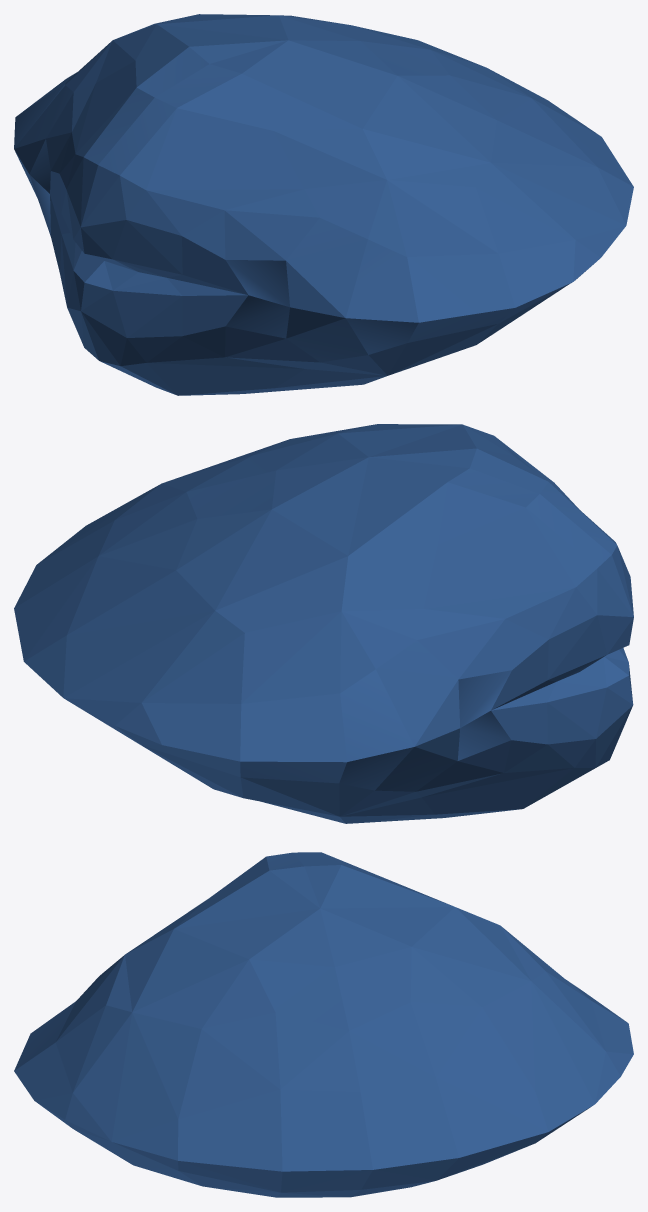
The model's file is Beike2.fbx.
The picture shows the model from 3 angles, top to bottom: view 1: azimuth 30°, elevation 25°; view 2: azimuth 150°, elevation 25°; view 3: azimuth 270°, elevation 25°; orthographic projection. The views are drawn at different scales.
Visible parts, largest first — view 1: samor_2025_08; view 2: samor_2025_08; view 3: samor_2025_08.
Part boxes in pixels (x1,y1,x2,y2): samor_2025_08: [14, 14, 633, 395]; samor_2025_08: [14, 424, 633, 823]; samor_2025_08: [14, 852, 633, 1197].
Bounding box in the file's own units: 113 × 66.26 × 130.
